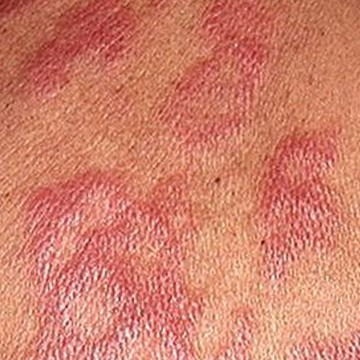Leprosy: (12, 170, 256, 359), (161, 1, 284, 157), (254, 128, 359, 301), (0, 0, 141, 105)
